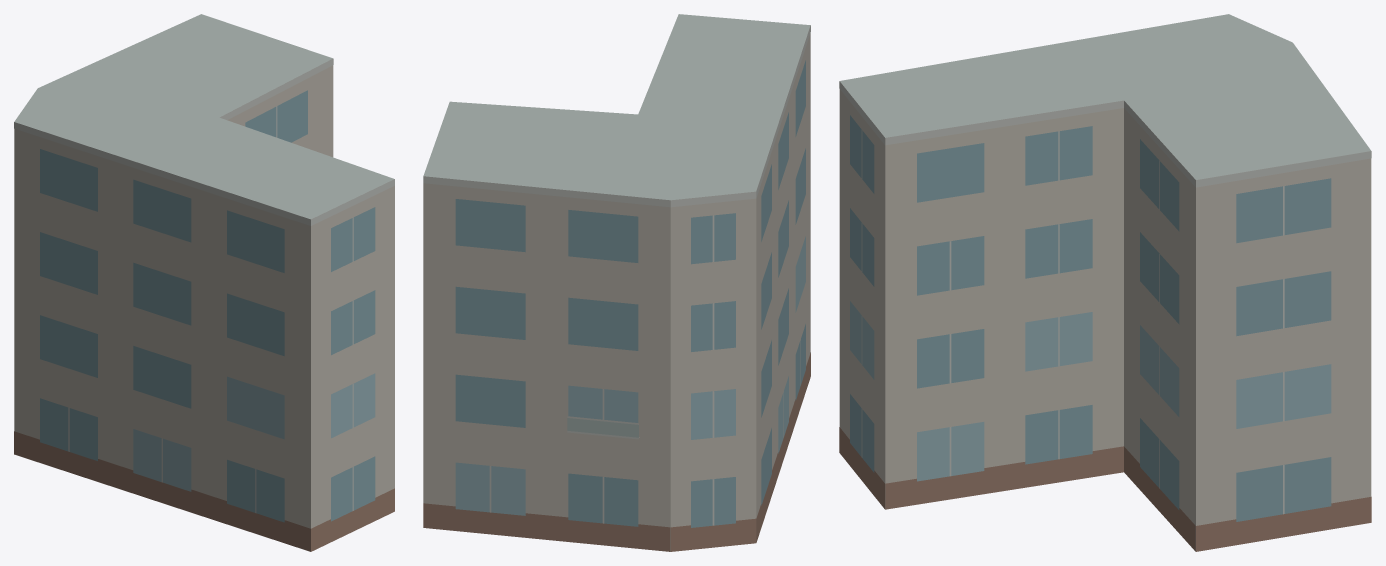
Rendered from survey-upis-33037092.glb.
The picture shows the model from 3 angles, left to right: view 1: azimuth 30°, elevation 25°; view 2: azimuth 150°, elevation 25°; view 3: azimuth 270°, elevation 25°; orthographic projection. The views are drawn at different scales.
Parts seen in each view (by area): view 1: survey-upis-33037092.tmp; view 2: survey-upis-33037092.tmp; view 3: survey-upis-33037092.tmp.
Boxes of the visible parts, <box> form: survey-upis-33037092.tmp: <box>14,14,394,551</box>; survey-upis-33037092.tmp: <box>423,14,810,551</box>; survey-upis-33037092.tmp: <box>839,14,1371,551</box>.
Size of the model in its own units: 11.71 by 12.2 by 15.84.
